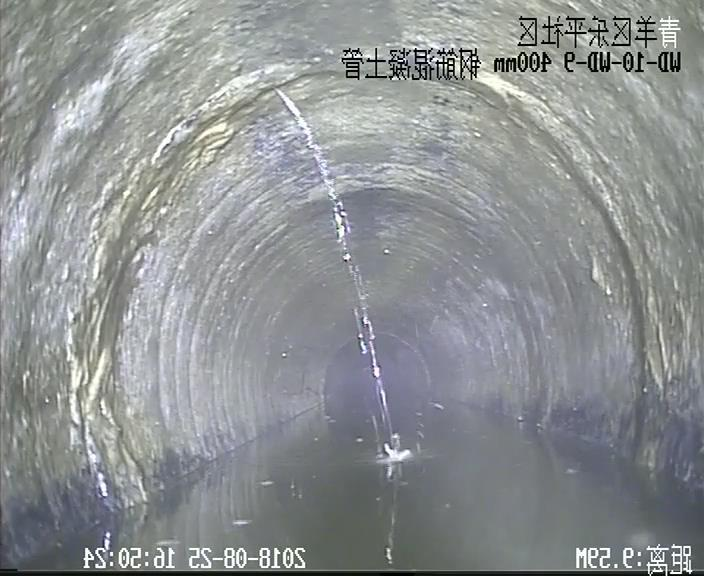SL: (256, 78, 423, 472)
